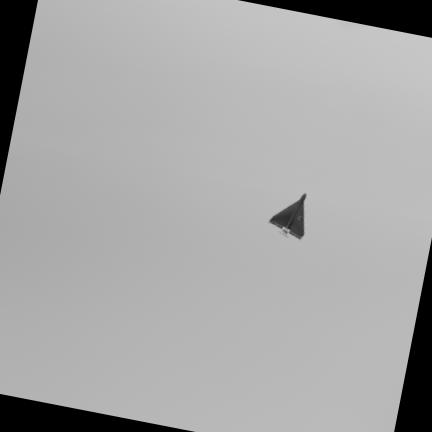Shahed: (270, 194, 306, 239)
